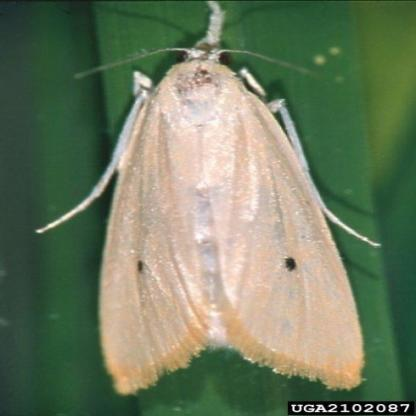stem-borer: (62, 2, 370, 396)
